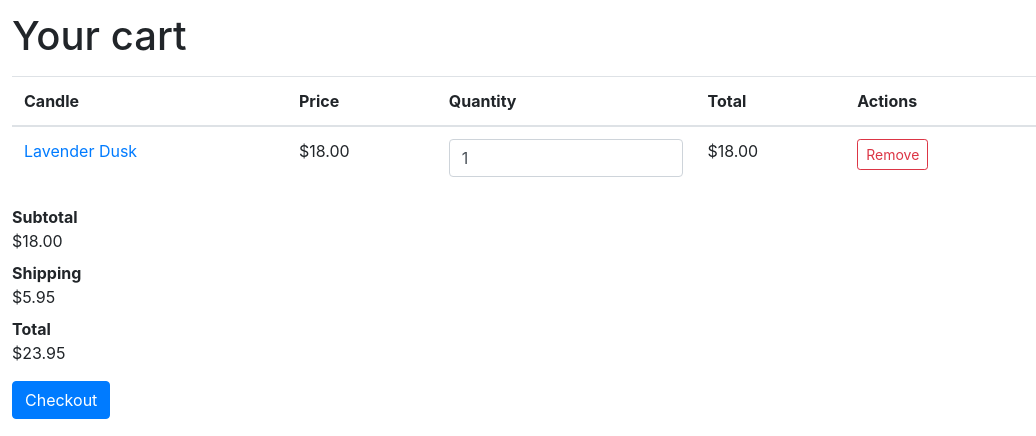
Scenario: CartComponent › [BR-C2] commits a typed quantity and updates totals
Replace the text in the number field with "4" at (566, 158), box [449, 139, 684, 177]
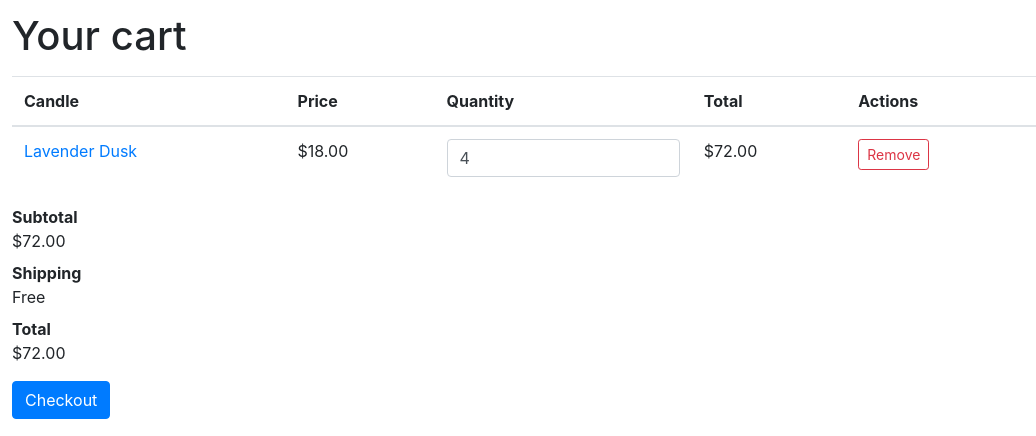
expect the cell "$72.00" is shown: met, box [692, 126, 846, 189]
expect the text "Free" is shown: met, box [12, 287, 45, 307]
